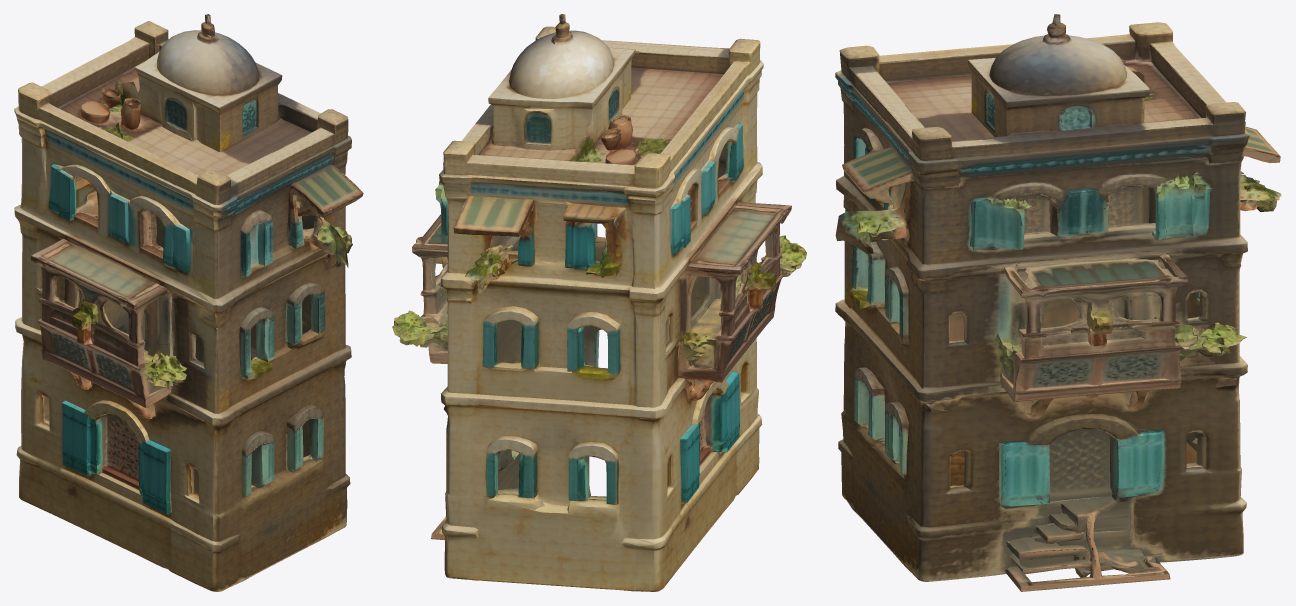
Rendered from r3_arab_tall_narrow.glb.
The picture shows the model from 3 angles, left to right: view 1: azimuth 30°, elevation 25°; view 2: azimuth 150°, elevation 25°; view 3: azimuth 270°, elevation 25°; orthographic projection. The views are drawn at different scales.
Visible parts, largest first — view 1: geometry_0; view 2: geometry_0; view 3: geometry_0.
Part boxes in pixels (x1,y1,x2,y2): geometry_0: [14, 14, 363, 591]; geometry_0: [392, 14, 806, 591]; geometry_0: [835, 14, 1281, 591].
Size of the model in its own units: 8 by 13 by 10.
1 material, 1 textured.
